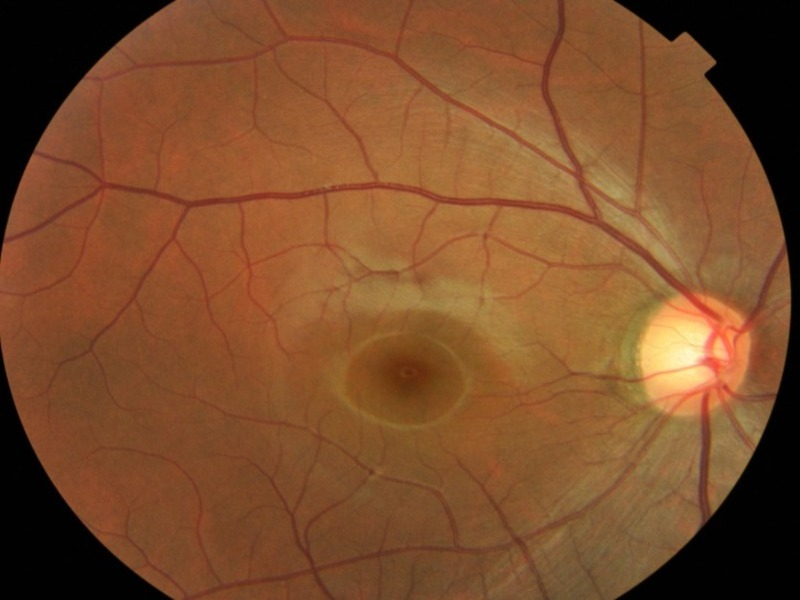Optic Cup: (652, 321, 712, 382)
Optic Disc: (638, 291, 747, 417)
